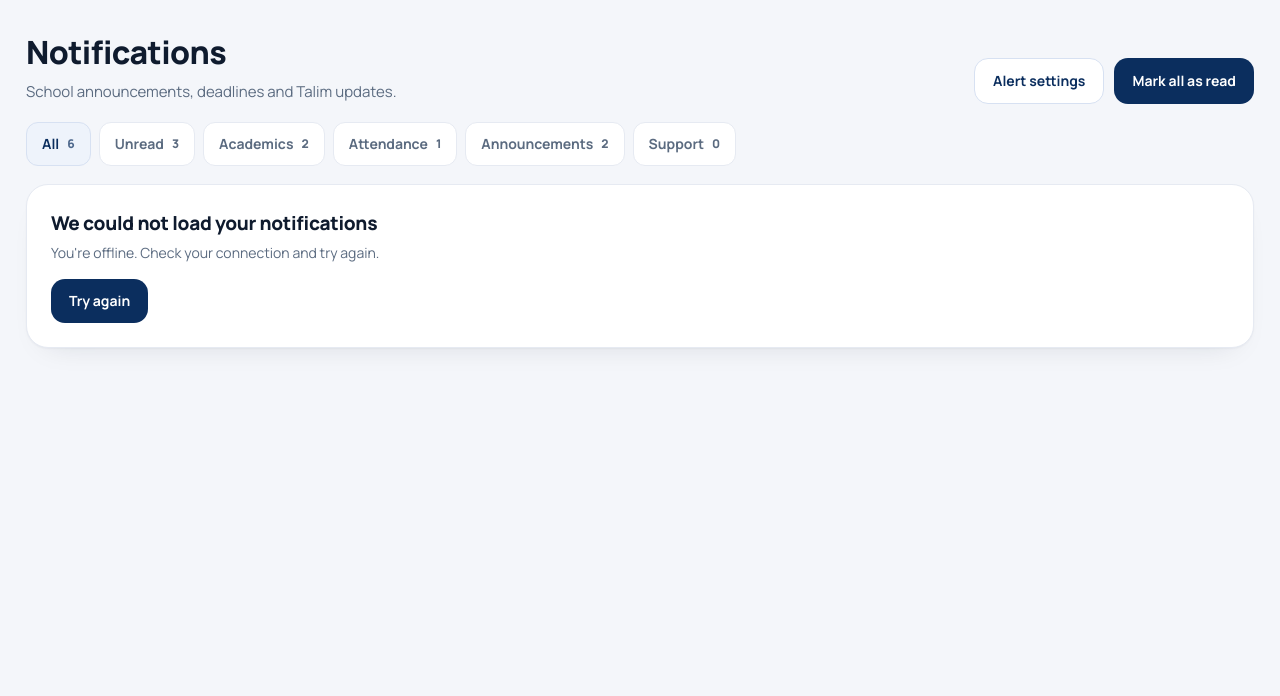
it: NotificationsScreen › shows an error with a retry when both feeds fail
Check: the message shows "We could not load your notifications", box [51,210,377,236]
Check: the message shows "You're offline", box [51,243,379,262]
Click the button "Try again": (100, 301) [51,279,148,323]
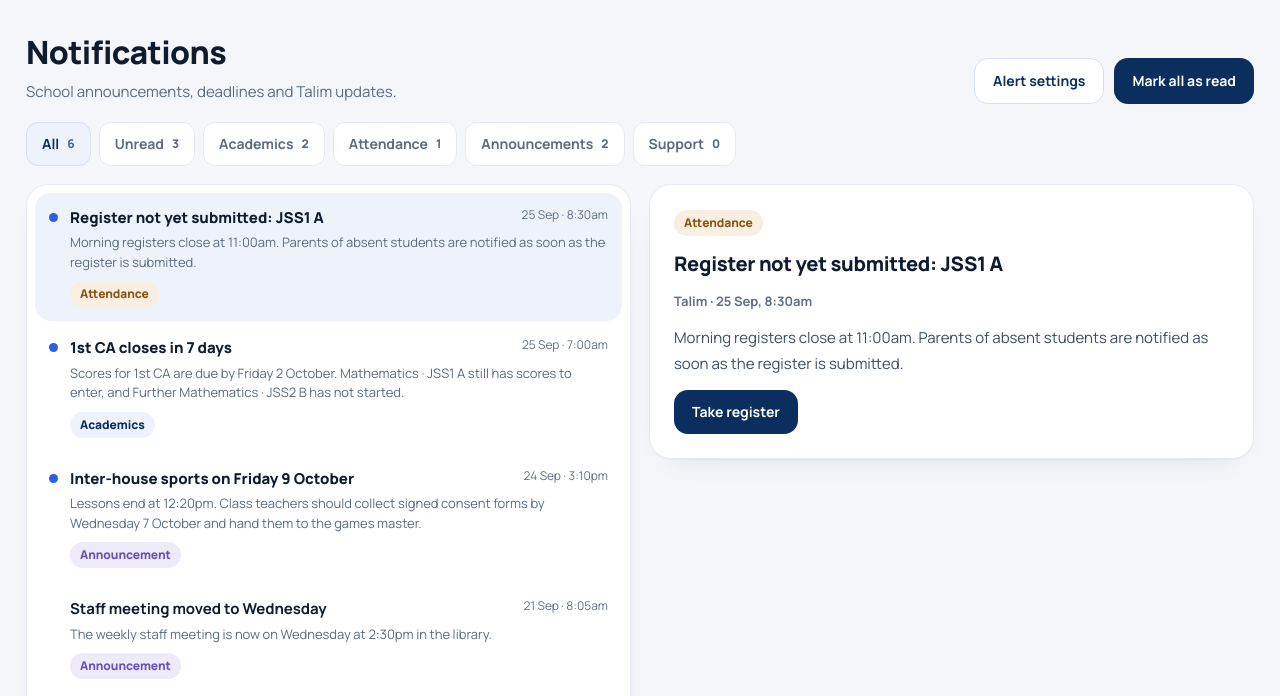
Check: the button "1st CA closes" is shown, box [35,323,622,452]
